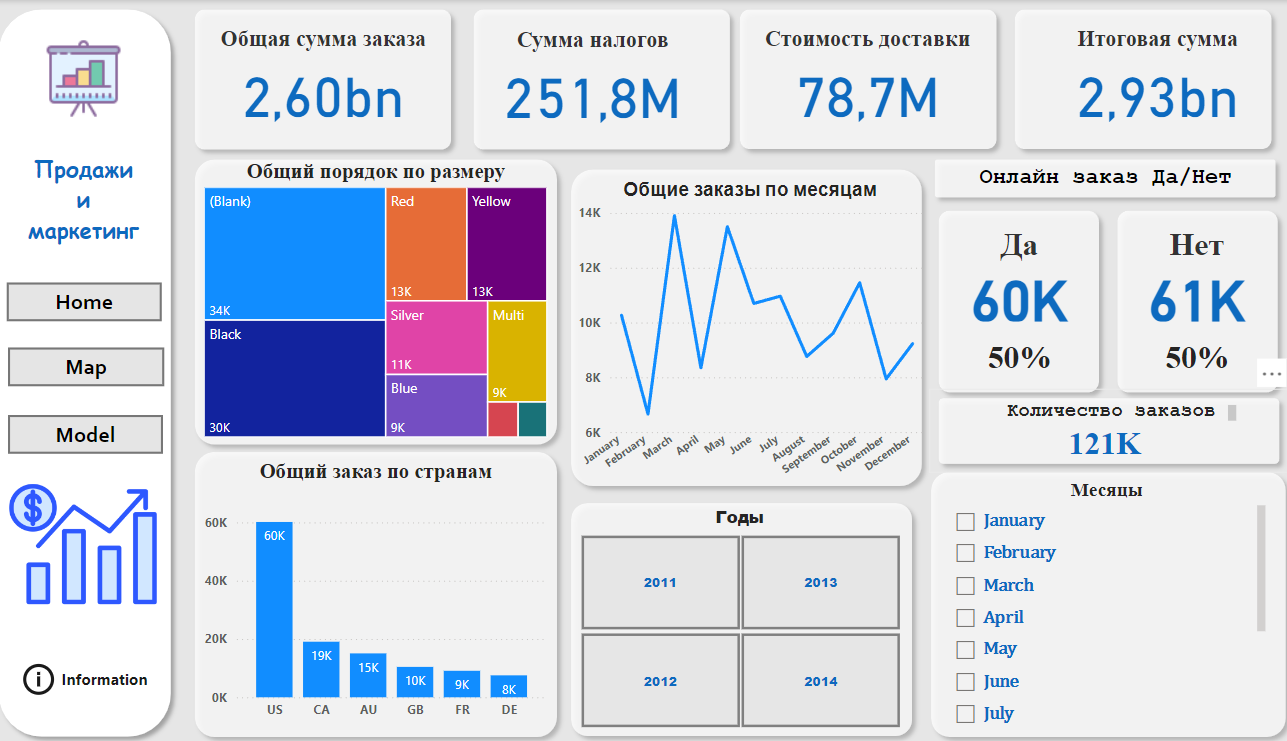

The page's visual inventory and layout, read from the dashboard file:
{"tool":"powerbi","page":{"name":"Home","canvas":[1280,720],"ordinal":0},"visuals":[{"type":"shape","box":[20,0,184.3,720],"z":0},{"type":"shape","box":[1001.4,0,265.7,152.9],"z":1000},{"type":"shape","box":[479,0,265.4,153.2],"z":2000},{"type":"shape","box":[735.7,0,265.7,152.9],"z":3000},{"type":"shape","box":[209.3,0,265.3,153.3],"z":4000},{"type":"shape","box":[209.3,427.2,367.5,293.3],"z":5000},{"type":"shape","box":[573.2,154.6,356.6,323.7],"z":6000},{"type":"shape","box":[572.9,477.1,347.1,242.9],"z":7000},{"type":"shape","box":[927.3,194.7,172.8,193.5],"z":8000},{"type":"shape","box":[920,446.6,360.2,273.8],"z":9000},{"type":"textbox","box":[15.7,142.4,191.8,102.5],"z":10000},{"type":"card","title":"Общая сумма заказа","fields":{"Values":["Sum(marketin_sales_table.SubTotal)"]},"box":[233.7,25.6,217.8,99.8],"z":11000},{"type":"card","title":"Сумма налогов","fields":{"Values":["Sum(marketin_sales_table.TaxAmt)"]},"box":[494.1,26.8,216.6,99.8],"z":12000},{"type":"card","title":" Cтоимость доставки","fields":{"Values":["Sum(marketin_sales_table.Freight)"]},"box":[760.6,25.6,216.6,99.8],"z":13000},{"type":"card","title":"Итоговая сумма","fields":{"Values":["Sum(marketin_sales_table.TotalDue)"]},"box":[1040.5,25.6,216.6,99.8],"z":14000},{"type":"shape","box":[1100.1,194.7,172.8,193.5],"z":15000},{"type":"shape","box":[923.7,144.8,346.8,54.8],"z":16000},{"type":"textbox","box":[961.4,154.6,272.6,41.4],"z":17000},{"type":"card","title":"Да","fields":{"Values":["marketin_sales_table.online_one"]},"box":[940.7,217.8,147.3,97.4],"z":18000},{"type":"card","title":"Нет","fields":{"Values":["marketin_sales_table.offline_one"]},"box":[1112.3,217.8,147.3,97.4],"z":19000},{"type":"card","title":"Да","fields":{"Values":["marketin_sales_table.% online"]},"box":[965.1,315.2,99.8,58.4],"z":20000},{"type":"card","title":"Да","fields":{"Values":["marketin_sales_table.% offline"]},"box":[1136.6,315.2,99.8,58.4],"z":21000},{"type":"shape","box":[927.3,374.8,346.8,81.5],"z":22000},{"type":"textbox","box":[985.7,383.3,243.4,28],"z":23000},{"type":"card","fields":{"Values":["marketin_sales_table.count_rows_columns"]},"box":[1033.2,407.7,129,38.9],"z":24000},{"type":"slicer","title":"Годы","fields":{"Values":["marketin_sales_table.OrderDate.Variation.Date Hierarchy.Year"]},"box":[565.9,488,357.8,221.5],"z":25000},{"type":"lineChart","title":"Общие заказы по месяцам","fields":{"Category":["marketin_sales_table.OrderDate.Variation.Date Hierarchy.Month"],"Y":["marketin_sales_table.count_rows_columns"]},"box":[582.9,172.8,344.4,295.7],"z":26000},{"type":"slicer","title":"Месяцы","fields":{"Values":["marketin_sales_table.OrderDate.Variation.Date Hierarchy.Month"]},"box":[940.7,462.4,316.4,243.4],"z":27000},{"type":"clusteredColumnChart","title":"Общий заказ по странам","fields":{"Category":["marketin_sales_table.CountryRegionCode"],"Y":["marketin_sales_table.count_rows_columns"]},"box":[222.7,444.2,340.8,259.2],"z":28000},{"type":"shape","box":[209.3,144.8,367.5,293.3],"z":29000},{"type":"treemap","title":"Общий порядок по размеру","fields":{"Group":["marketin_sales_table.Color"],"Values":["marketin_sales_table.count_rows_columns"]},"box":[222.7,154.6,340.8,272.6],"z":30000},{"type":"image","box":[62.7,30.2,97.7,91.7],"z":31000},{"type":"actionButton","title":"Map","box":[38.6,335.4,150.8,37.4],"z":32000},{"type":"actionButton","title":"Home","box":[37.4,272.7,149.6,37.4],"z":33000},{"type":"actionButton","box":[38.6,400.5,149.6,37.4],"z":34000},{"type":"image","box":[35,446.4,152,156.8],"z":35000},{"type":"actionButton","box":[48.3,635.8,129.1,39.8],"z":36000}]}

Visuals, with their boxes in screenshot pixels (x1, y1, x2, y2), scaled from the page's 1280x720 canvas onto the 1287x741 screenshot:
shape: 20/0/205/740
shape: 1007/0/1274/157
shape: 482/0/748/158
shape: 740/0/1007/157
shape: 210/0/477/158
shape: 210/440/580/740
shape: 576/159/935/492
shape: 576/491/925/740
shape: 932/200/1106/400
shape: 925/460/1286/740
textbox: 16/147/209/252
"Общая сумма заказа" card: 235/26/454/129
"Сумма налогов" card: 497/28/715/130
" Cтоимость доставки" card: 765/26/983/129
"Итоговая сумма" card: 1046/26/1264/129
shape: 1106/200/1280/400
shape: 929/149/1277/205
textbox: 967/159/1241/202
"Да" card: 946/224/1094/324
"Нет" card: 1118/224/1266/324
"Да" card: 970/324/1071/384
"Да" card: 1143/324/1243/384
shape: 932/386/1281/470
textbox: 991/394/1236/423
card - marketin_sales_table.count_rows_columns: 1039/420/1169/460
"Годы" slicer: 569/502/929/730
"Общие заказы по месяцам" lineChart: 586/178/932/482
"Месяцы" slicer: 946/476/1264/726
"Общий заказ по странам" clusteredColumnChart: 224/457/567/724
shape: 210/149/580/451
"Общий порядок по размеру" treemap: 224/159/567/440
image: 63/31/161/125
"Map" actionButton: 39/345/190/384
"Home" actionButton: 38/281/188/319
actionButton: 39/412/189/451
image: 35/459/188/621
actionButton: 49/654/178/695
